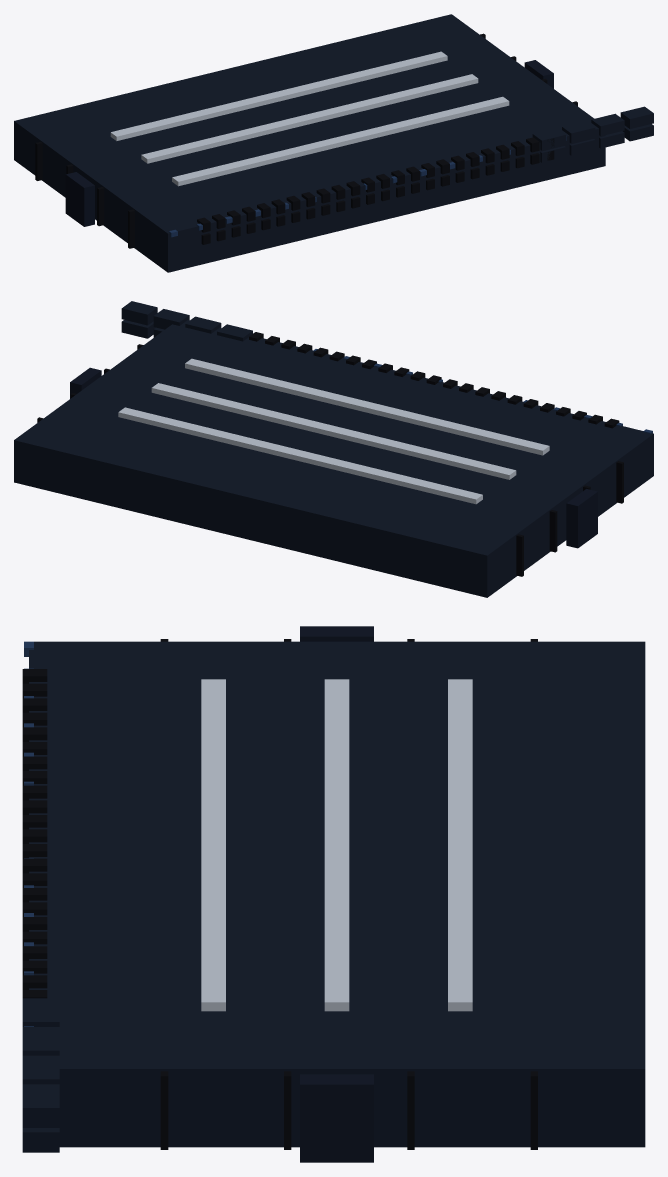
Rendered from network_switch_v01.glb.
3 renders of one model, top to bottom at view 1: azimuth 30°, elevation 25°; view 2: azimuth 150°, elevation 25°; view 3: azimuth 270°, elevation 25°, orthographic. The views are drawn at different scales.
Visible parts, largest first — view 1: chassis, fins, ports, sfp, flanges, vents, leds_status; view 2: chassis, fins, ports, sfp, flanges, vents; view 3: chassis, fins, ports, flanges, sfp, vents.
Part boxes in pixels (left/top/right/bottom): chassis: left=14, top=14, right=605, bottom=272; fins: left=110, top=51, right=509, bottom=186; ports: left=197, top=137, right=554, bottom=244; sfp: left=532, top=106, right=653, bottom=162; flanges: left=65, top=60, right=553, bottom=226; vents: left=35, top=33, right=577, bottom=248; leds_status: left=169, top=136, right=566, bottom=237; chassis: left=14, top=320, right=653, bottom=597; fins: left=118, top=358, right=549, bottom=504; ports: left=249, top=332, right=619, bottom=428; sfp: left=121, top=301, right=252, bottom=341; flanges: left=70, top=367, right=597, bottom=548; vents: left=37, top=344, right=623, bottom=576; chassis: left=29, top=641, right=645, bottom=1147; fins: left=201, top=679, right=472, bottom=1011; ports: left=22, top=669, right=47, bottom=998; flanges: left=300, top=626, right=373, bottom=1162; sfp: left=22, top=998, right=59, bottom=1152; vents: left=160, top=639, right=537, bottom=1149.
Bounding box in the file's own units: 0.9375 × 0.083 × 0.505.
